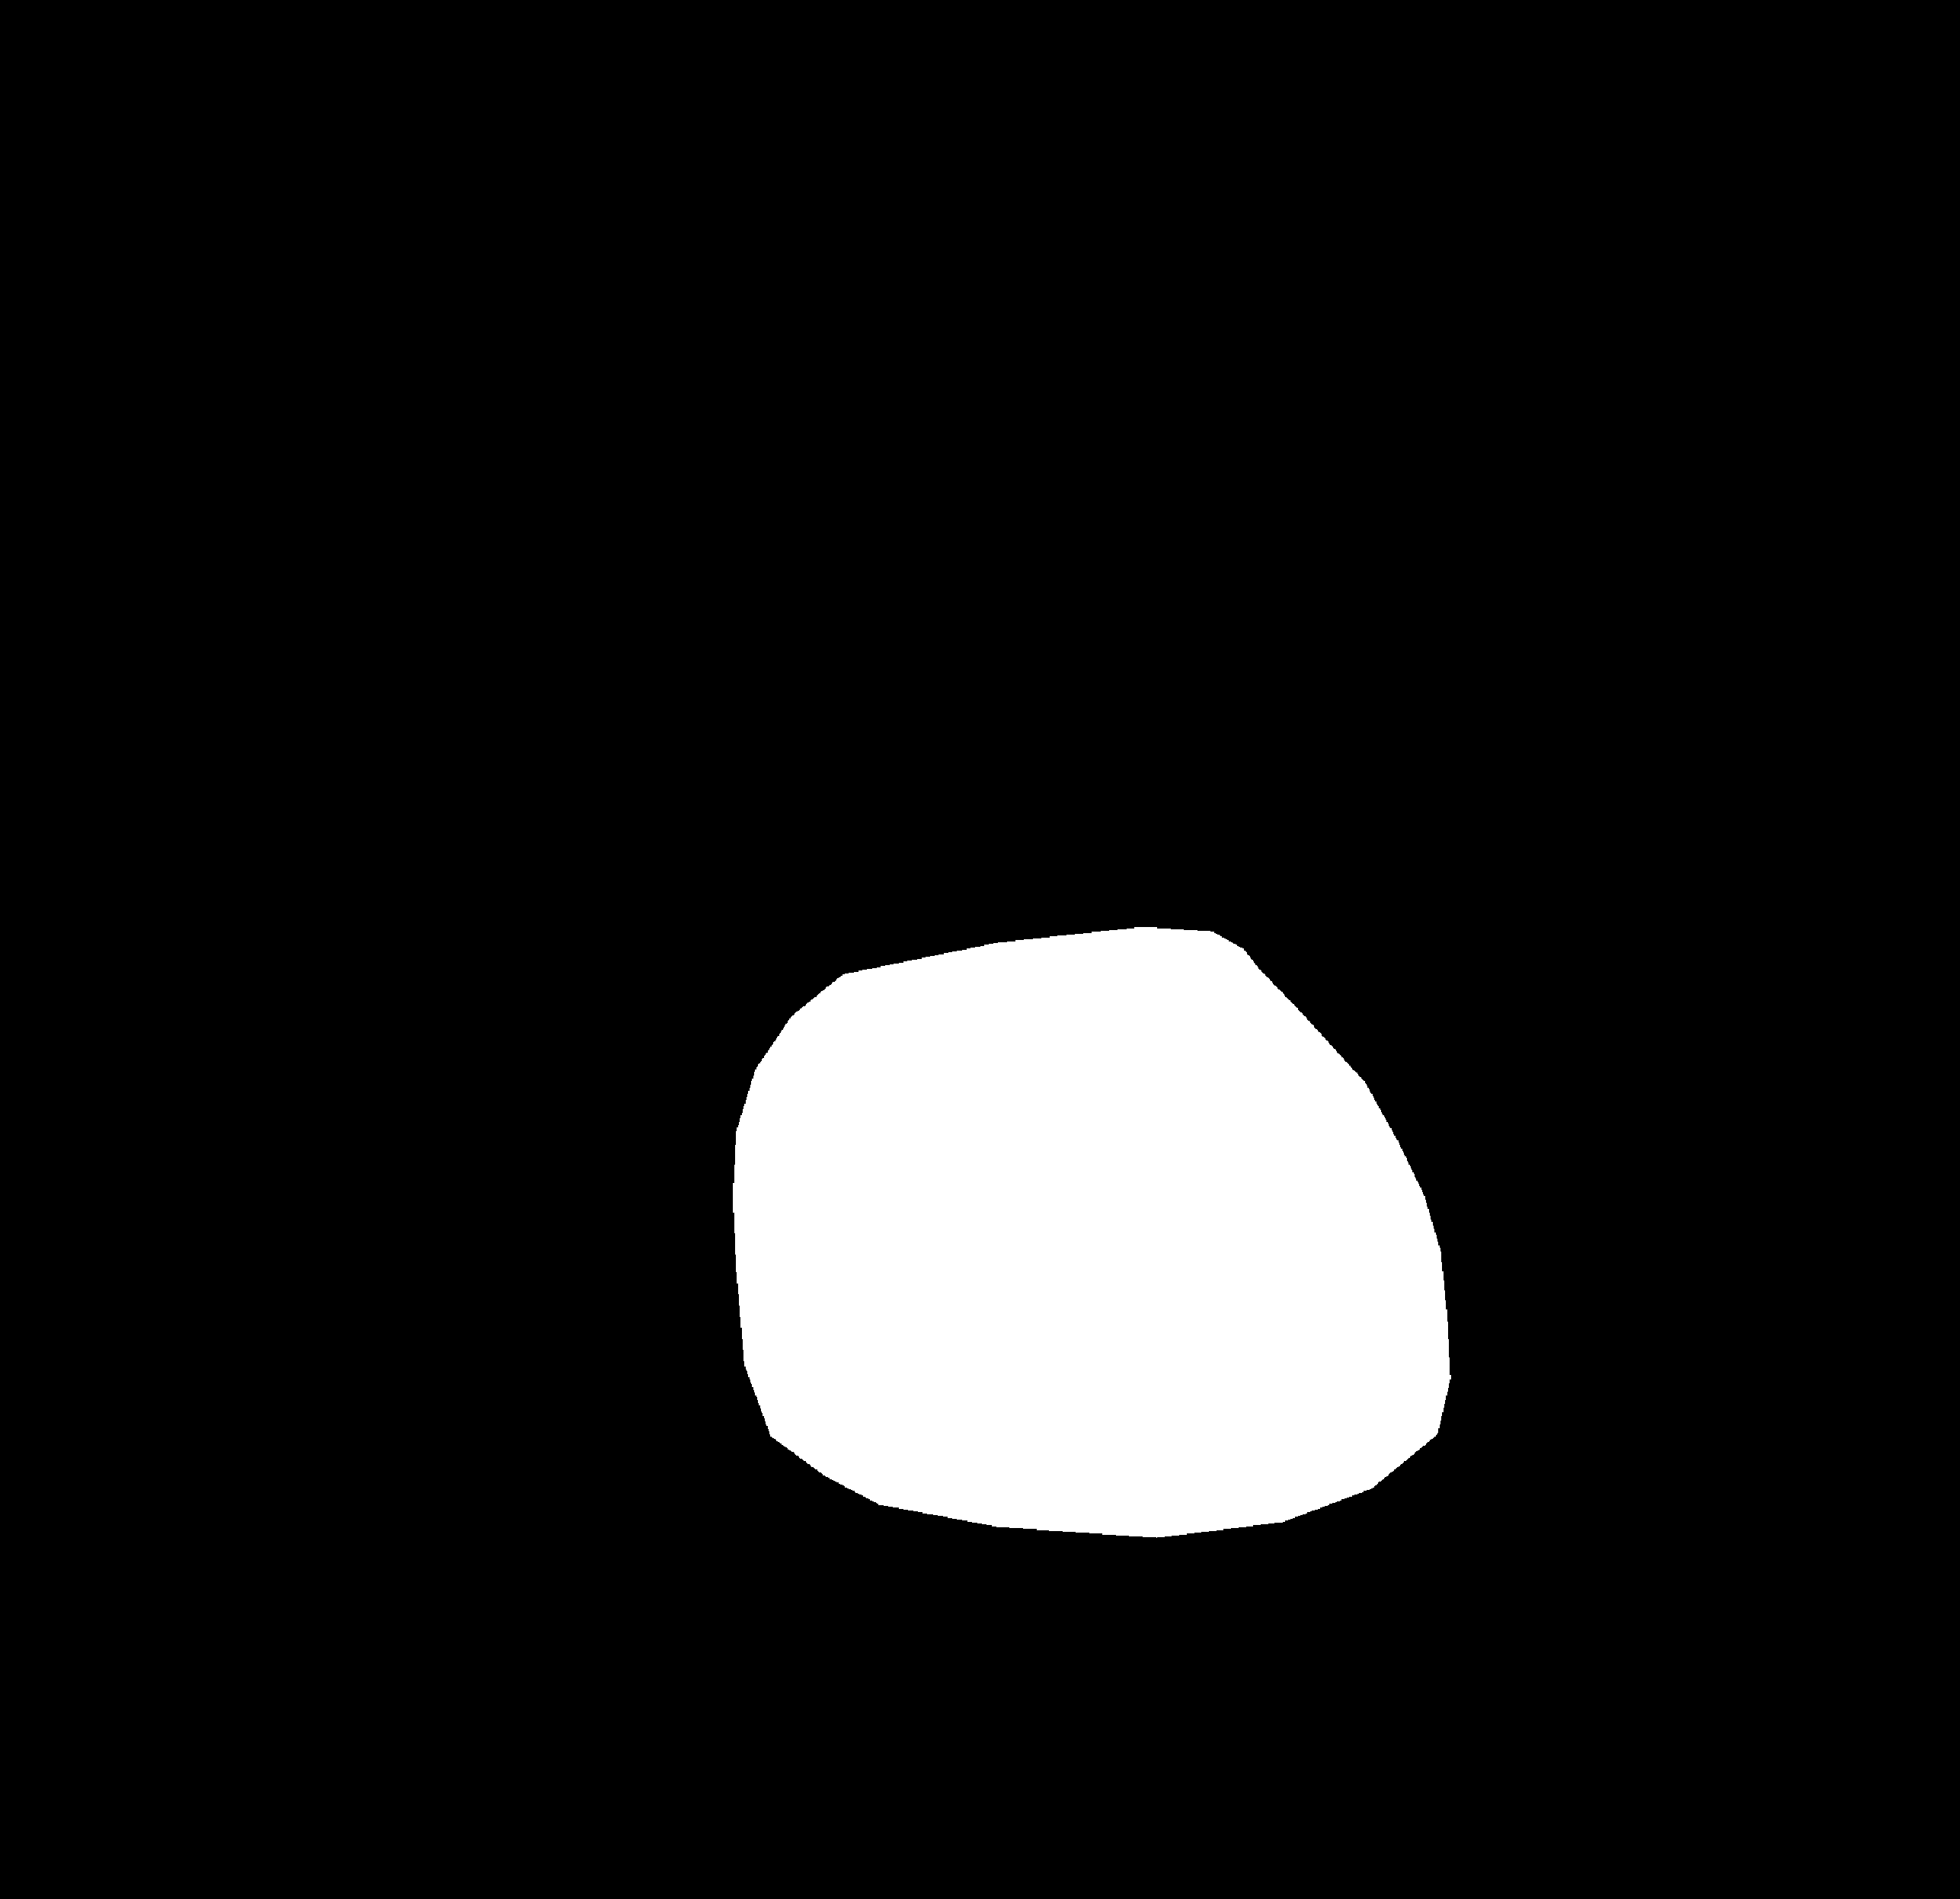heart: (714, 959, 1449, 1622)
left_lung: (203, 193, 910, 1680)
right_lung: (1066, 191, 1768, 1752)
